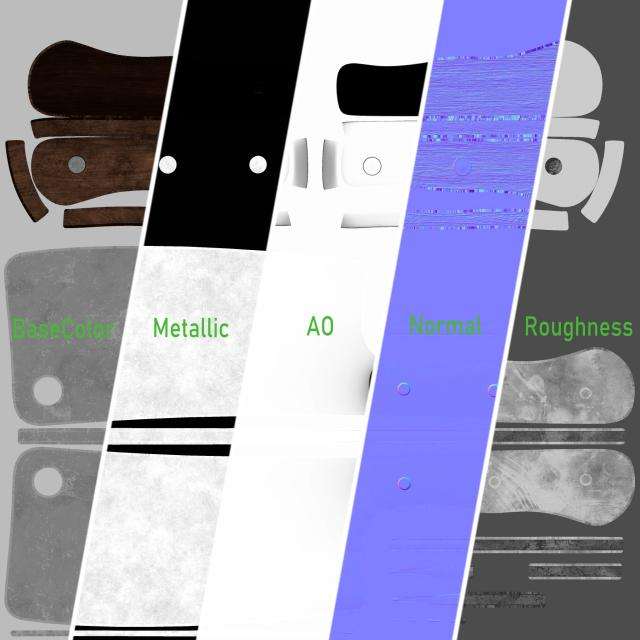cleaver: (514, 357, 522, 366)
